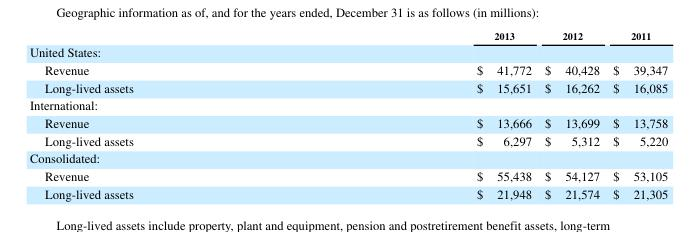table: (28, 28, 667, 201)
table column: (28, 28, 304, 201), (304, 28, 537, 201), (537, 28, 605, 201), (605, 28, 667, 201)
table column header: (28, 28, 667, 42)
table projected row header: (28, 42, 667, 60), (28, 95, 667, 113), (28, 148, 667, 166)
table row: (28, 42, 667, 60), (28, 77, 667, 95), (28, 95, 667, 113), (28, 130, 667, 148), (28, 148, 667, 166), (28, 183, 667, 201), (28, 60, 667, 77), (28, 113, 667, 130), (28, 166, 667, 183), (28, 28, 667, 42)
